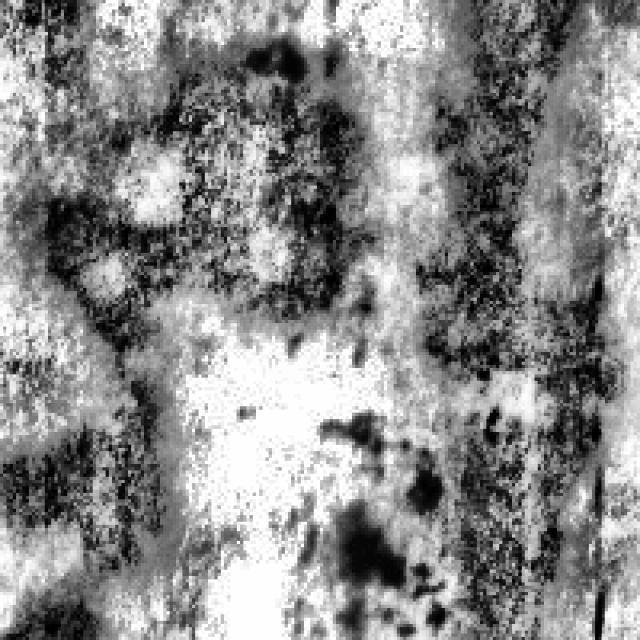Patches: (307, 454, 438, 634), (234, 19, 356, 83)
Scratches: (410, 0, 614, 637), (29, 35, 372, 349), (0, 368, 166, 637)
